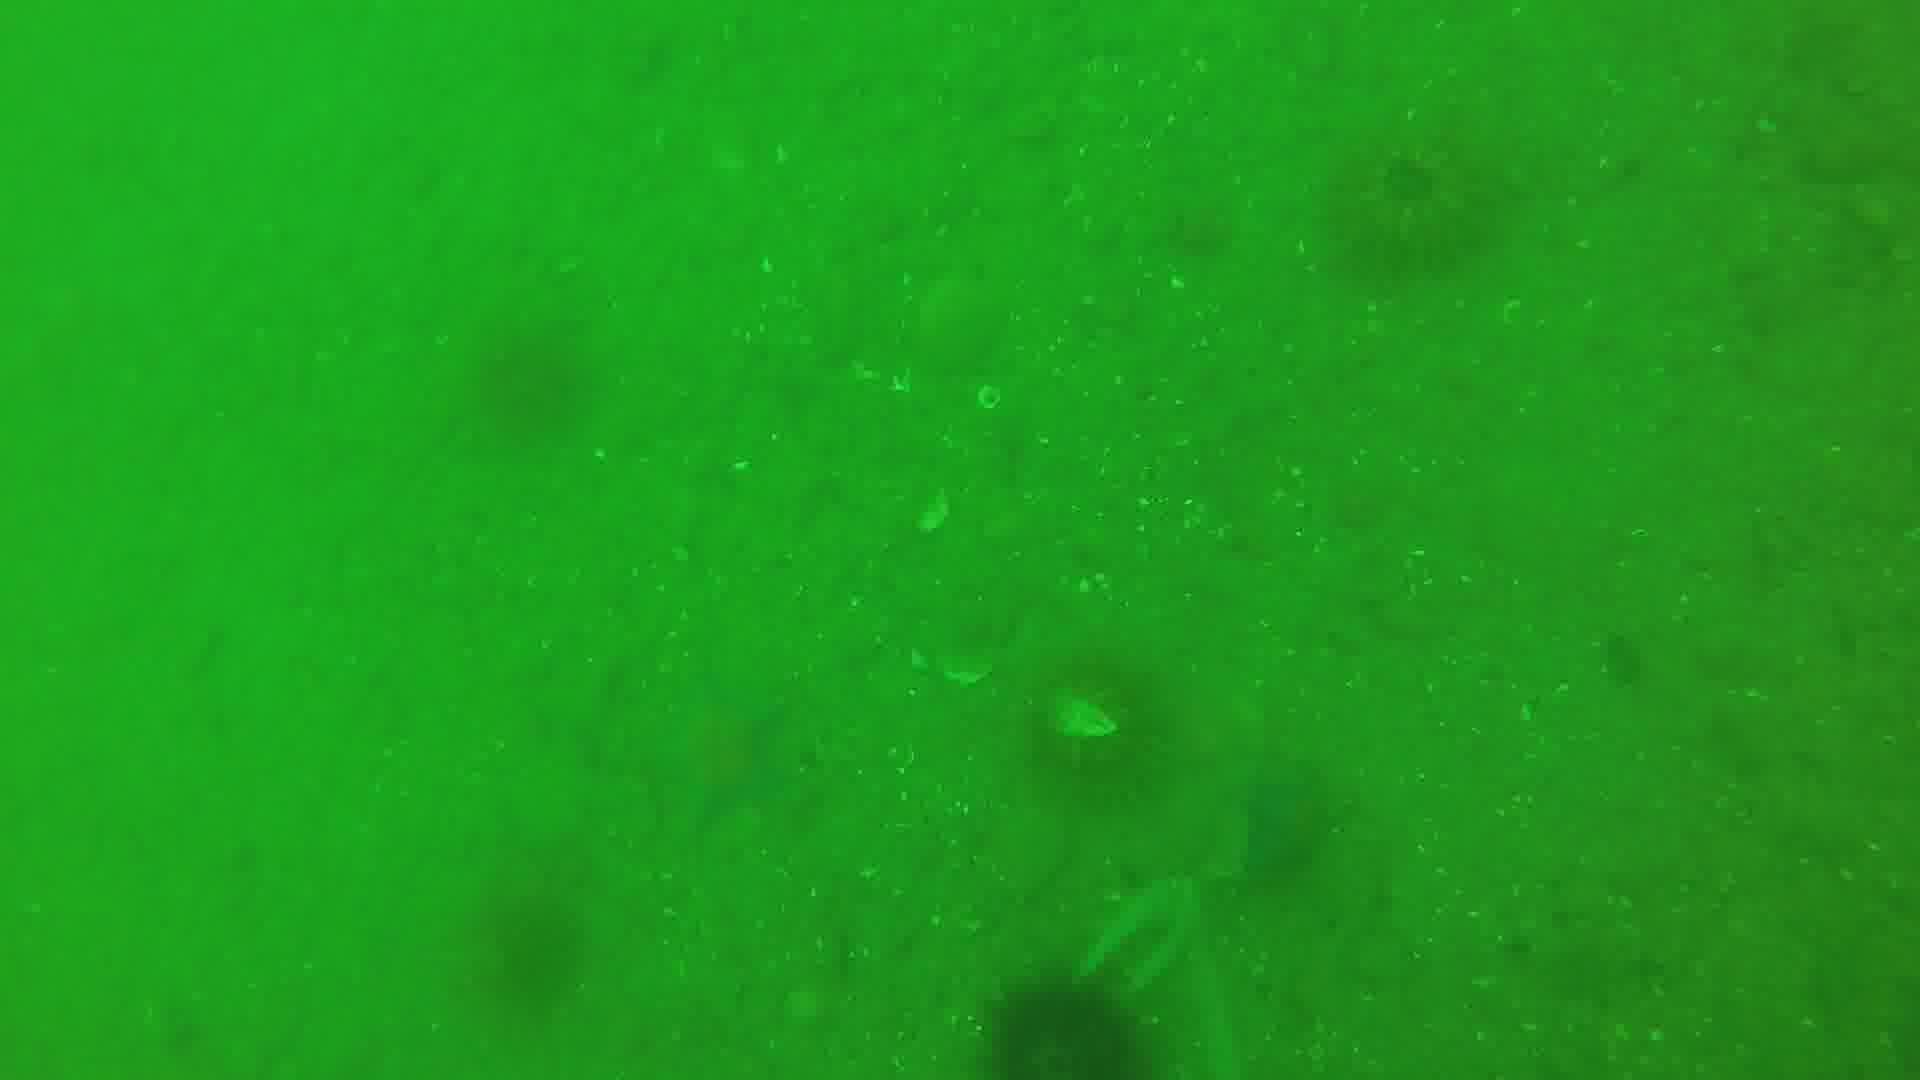echinus: (1350, 135, 1498, 251), (1033, 667, 1163, 791), (986, 978, 1137, 1080), (465, 334, 582, 433), (455, 895, 582, 984)
starfish: (669, 688, 785, 837), (549, 659, 654, 786)
